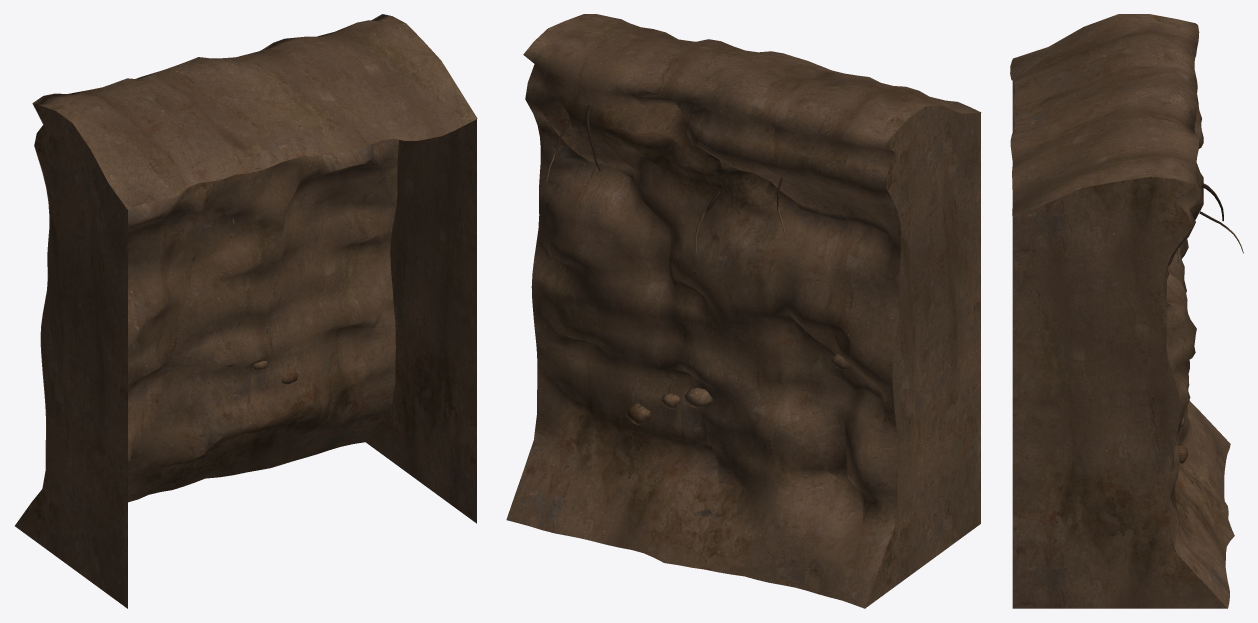
File: S7U_EarthBank_2m_C.fbx
3 renders of one model, left to right at view 1: azimuth 30°, elevation 25°; view 2: azimuth 150°, elevation 25°; view 3: azimuth 270°, elevation 25°, orthographic. The views are drawn at different scales.
Visible parts, largest first — view 1: S7U_EarthBank_2m_C; view 2: S7U_EarthBank_2m_C; view 3: S7U_EarthBank_2m_C.
Boxes of the visible parts, box(x1,y1,x2,y2) form: S7U_EarthBank_2m_C: box(15, 14, 477, 608); S7U_EarthBank_2m_C: box(506, 14, 981, 608); S7U_EarthBank_2m_C: box(1010, 14, 1243, 608).
Bounding box in the file's own units: 2 × 2.48 × 1.2.
